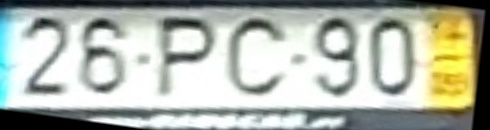0: (365, 15, 420, 99)
2: (17, 12, 74, 100)
6: (78, 11, 132, 100)
9: (313, 15, 363, 101)
C: (222, 16, 291, 103)
P: (151, 15, 221, 102)
